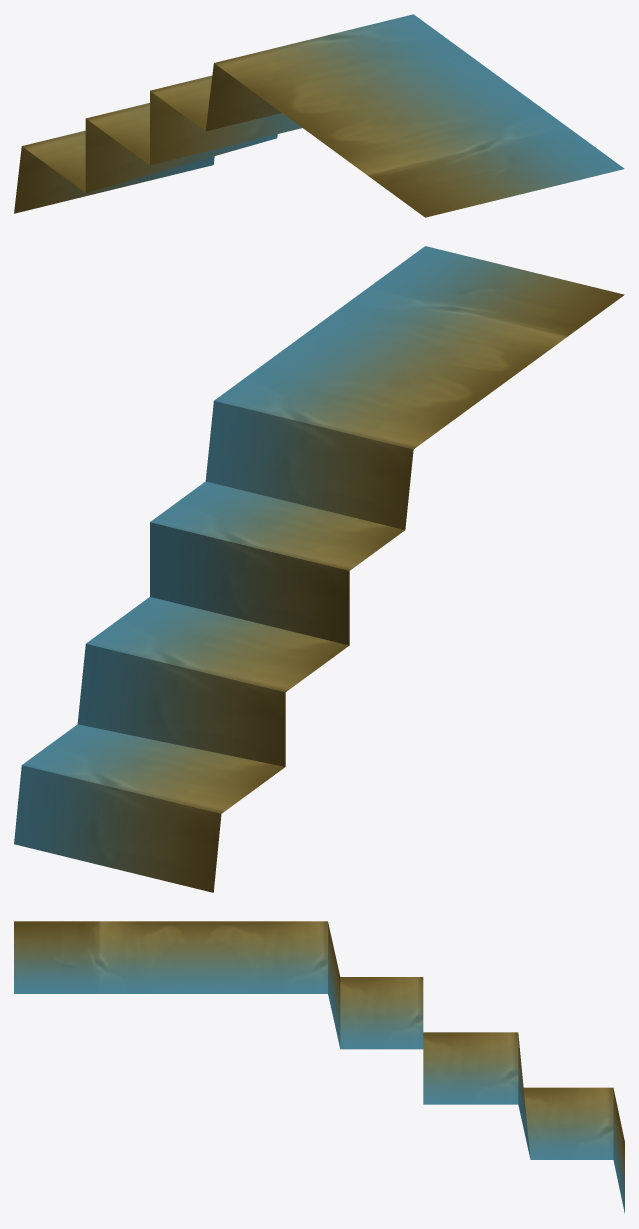
Rendered from Remains_waterfall_01.fbx.
The picture shows the model from 3 angles, top to bottom: view 1: azimuth 30°, elevation 25°; view 2: azimuth 150°, elevation 25°; view 3: azimuth 270°, elevation 25°; orthographic projection. The views are drawn at different scales.
Visible parts, largest first — view 1: Remains_waterfall_01; view 2: Remains_waterfall_01; view 3: Remains_waterfall_01.
Part boxes in pixels (bbox=[...]): Remains_waterfall_01: bbox=[14, 14, 624, 217]; Remains_waterfall_01: bbox=[14, 246, 624, 892]; Remains_waterfall_01: bbox=[14, 921, 624, 1213].
Bounding box in the file's own units: 66.32 × 94.28 × 237.
